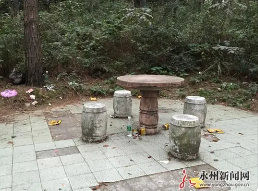garbage: (179, 171, 215, 191), (202, 126, 226, 144), (2, 85, 24, 101), (43, 69, 57, 93), (25, 85, 40, 106), (123, 112, 133, 138), (43, 118, 65, 129), (136, 124, 153, 138), (84, 95, 102, 104), (157, 121, 174, 130), (134, 92, 142, 101)
